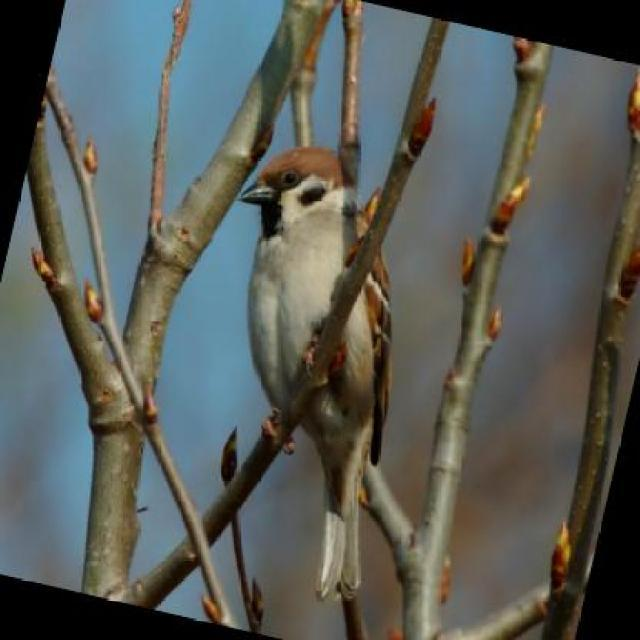Bird: (213, 121, 400, 614)
